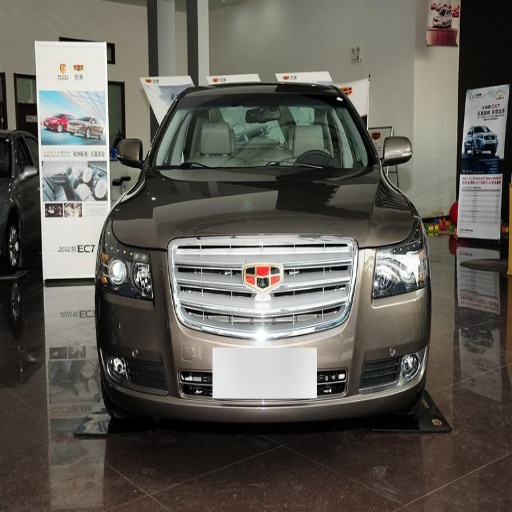front_bumper: (100, 240, 429, 414)
front_right_light: (98, 230, 153, 301)
hood: (115, 167, 413, 249)
